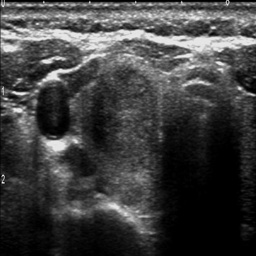mass: (86, 71, 156, 166)
